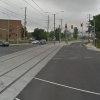Tree: (34, 23, 47, 38)
